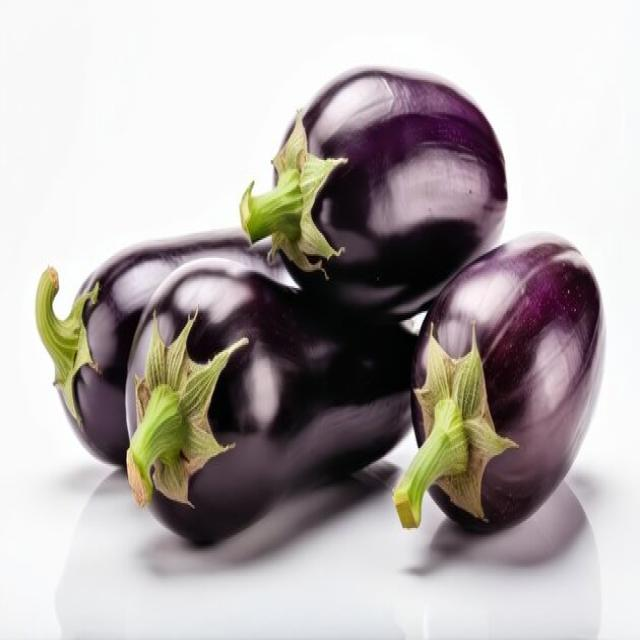Eggplant: (35, 106, 348, 468), (119, 252, 412, 550), (240, 64, 508, 324), (393, 229, 606, 535)
